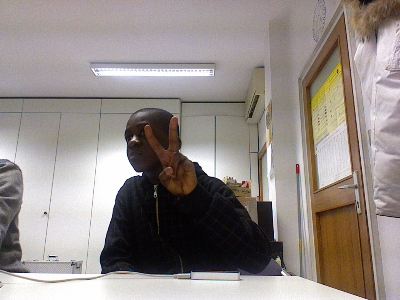剪刀: (142, 115, 197, 196)
